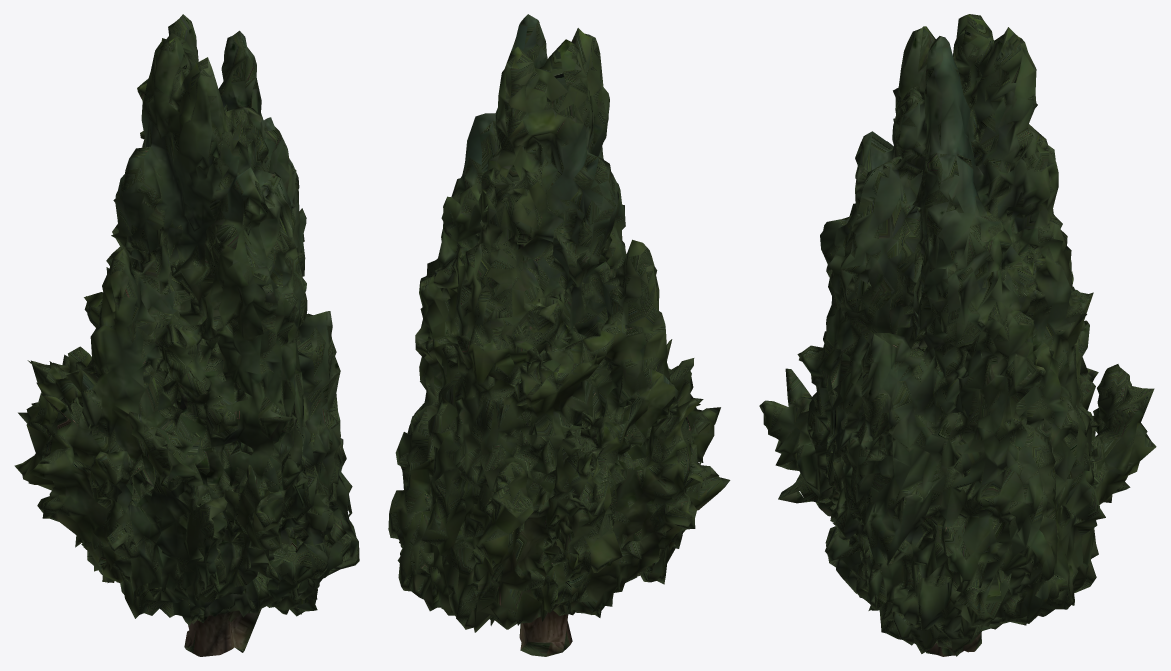
The model's file is lib_tp_buxu.near.glb.
3 views of the same model, side by side, from view 1: azimuth 30°, elevation 25°; view 2: azimuth 150°, elevation 25°; view 3: azimuth 270°, elevation 25° (orthographic).
Bounding box in the file's own units: 1.03 × 2.01 × 1.17.
1 material, 1 textured.
